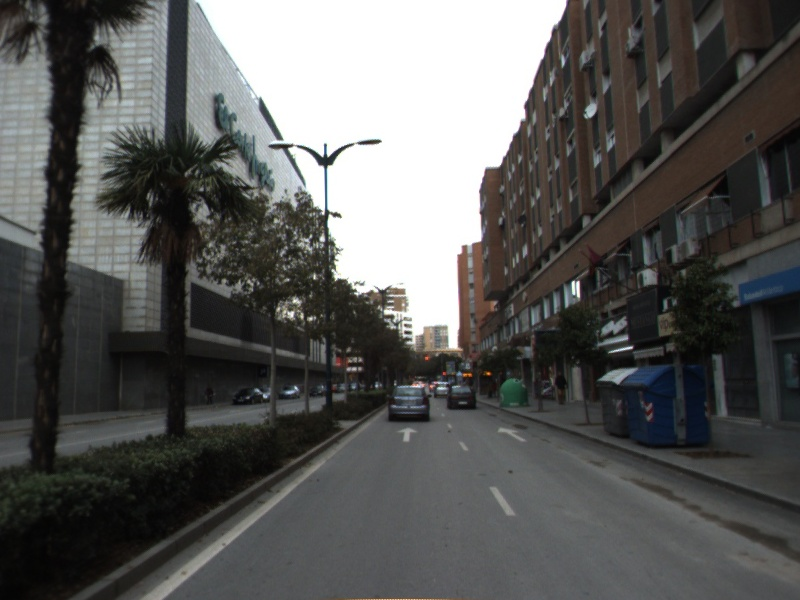STRAIGHT: (495, 425, 529, 443), (395, 425, 421, 444)
